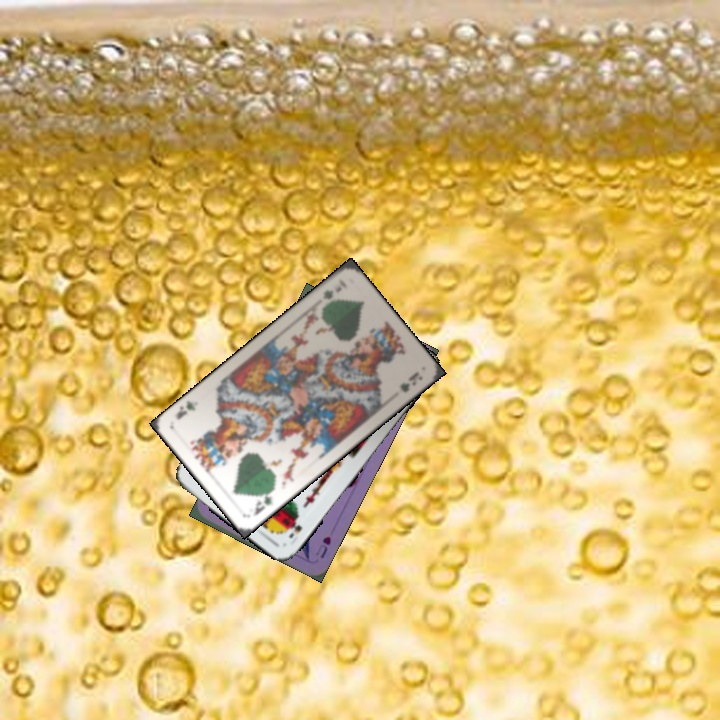GK: (250, 485, 275, 518), (319, 283, 345, 302)
HU: (312, 532, 334, 561)
SK: (285, 518, 305, 541)
